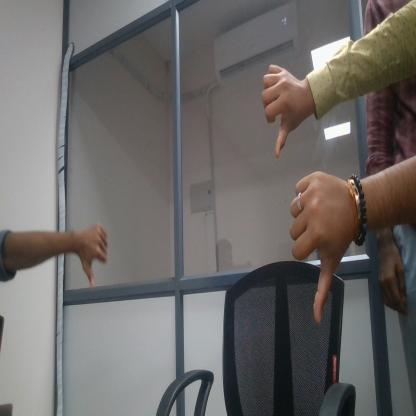Thumbs Down: (289, 165, 348, 332), (250, 53, 311, 163), (72, 213, 116, 298)
